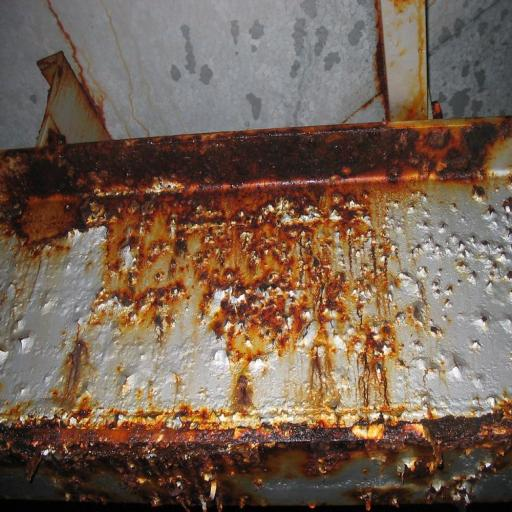corrosion: (88, 151, 406, 387), (50, 331, 99, 405), (357, 483, 401, 512)
